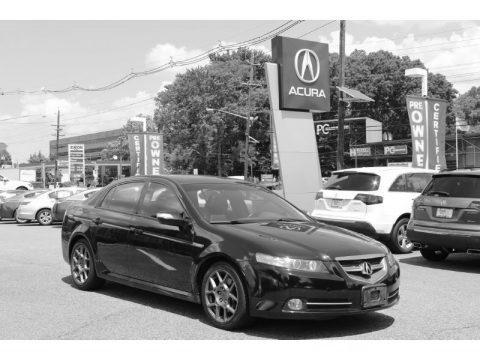car: (62, 176, 400, 330)
